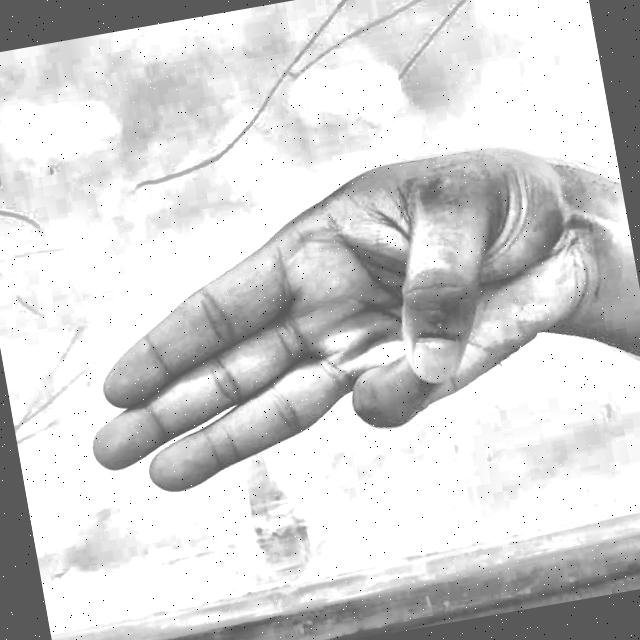Ma: (18, 115, 640, 554)
